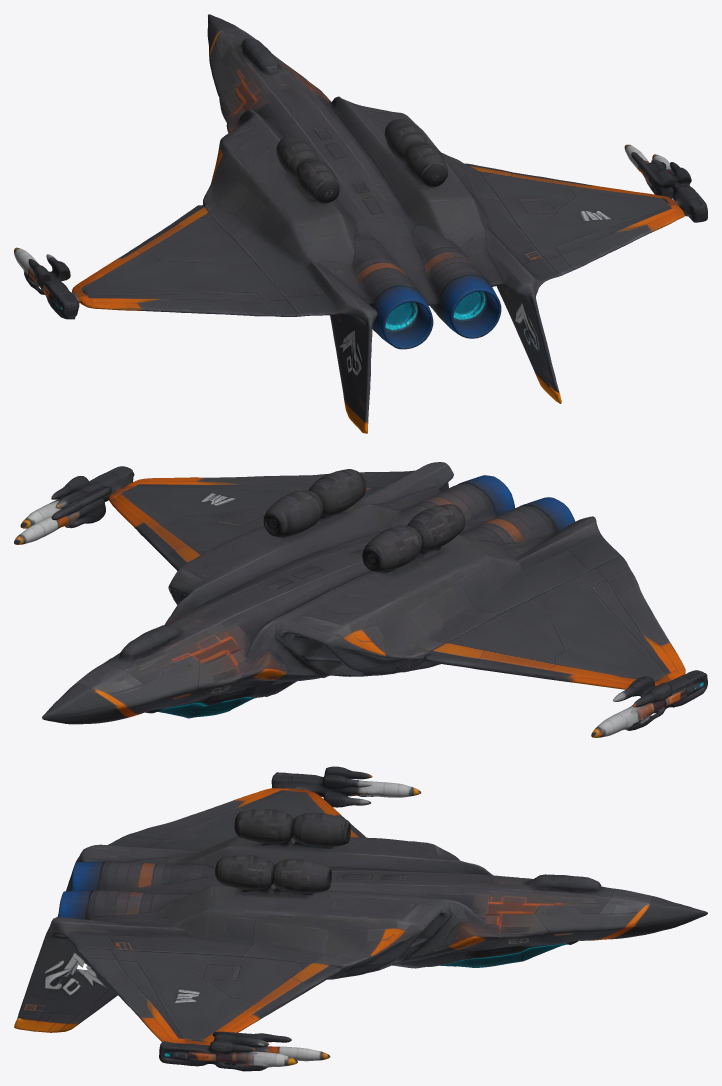
Rendered from enemy_hero_jet_blender_ready.glb.
3 views of the same model, one above another, from view 1: azimuth 30°, elevation 25°; view 2: azimuth 150°, elevation 25°; view 3: azimuth 270°, elevation 25° (orthographic). The views are drawn at different scales.
Visible parts, largest first — view 1: tripo_node_3194b363; view 2: tripo_node_3194b363; view 3: tripo_node_3194b363.
Part boxes in pixels (x1=…): tripo_node_3194b363: x1=14, y1=14, x2=707, y2=433; tripo_node_3194b363: x1=14, y1=462, x2=707, y2=737; tripo_node_3194b363: x1=14, y1=766, x2=707, y2=1071.
Size of the model in its own units: 3.22 by 0.8767 by 3.32.
Materials: 1 (1 with a texture image).
